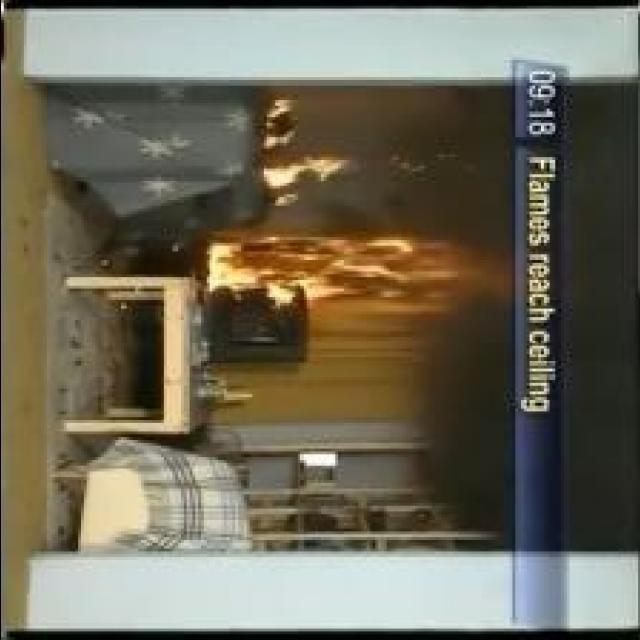Fire: (206, 238, 508, 306), (263, 157, 351, 189)
